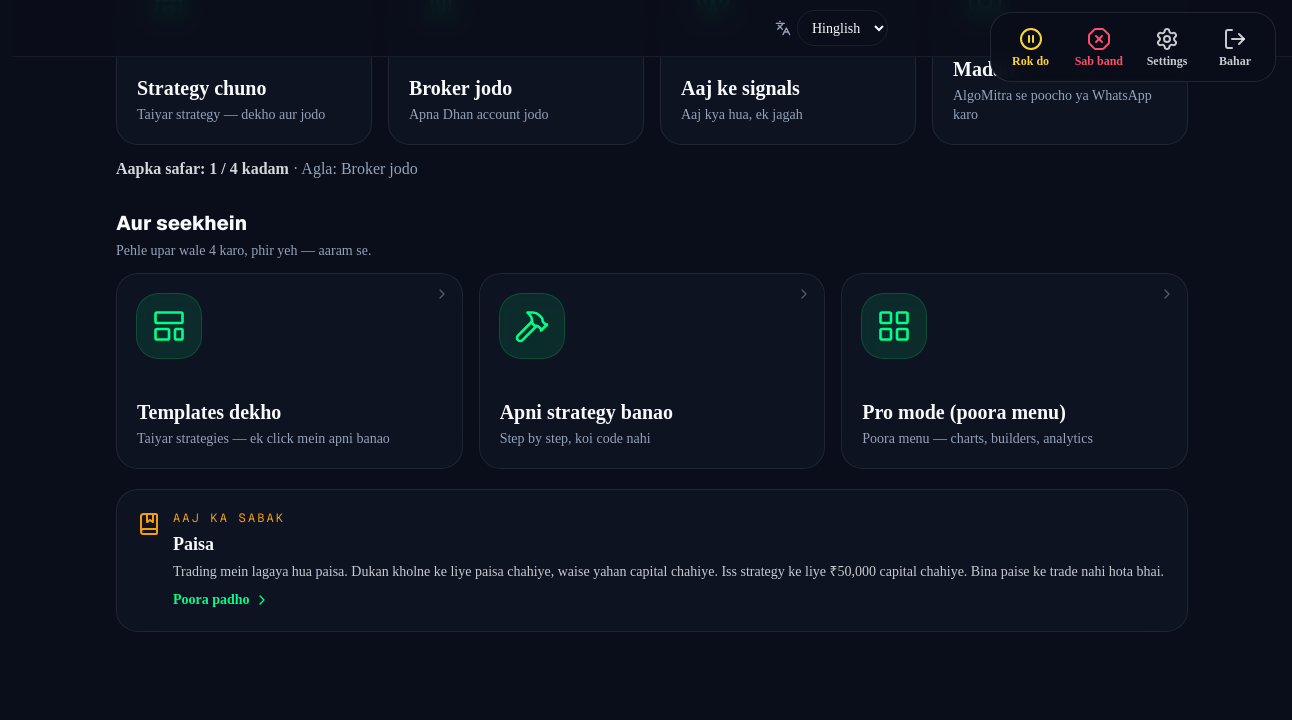
Scenario: Simple ⇄ Pro switching never dead-ends › the Pro tile under 'Aur seekhein' is one tap into Pro
(page scrolled)
Click the button with test id "learn-pro" at (894, 326), box [841, 273, 1188, 469]
(page scrolled)
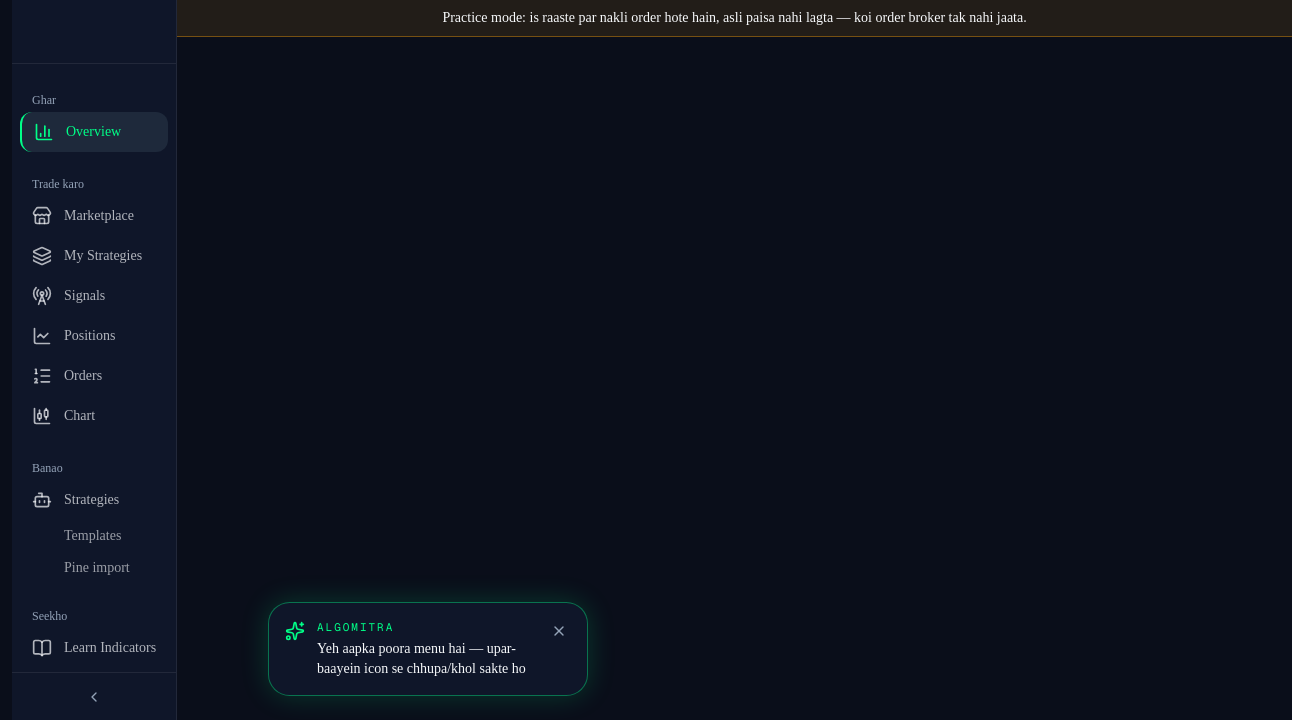
Expected: the message "AlgoMitra Yeh aapka poora menu hai — upar-baayein icon se chhupa/khol sakte ho" is shown, [268, 602, 588, 696]
